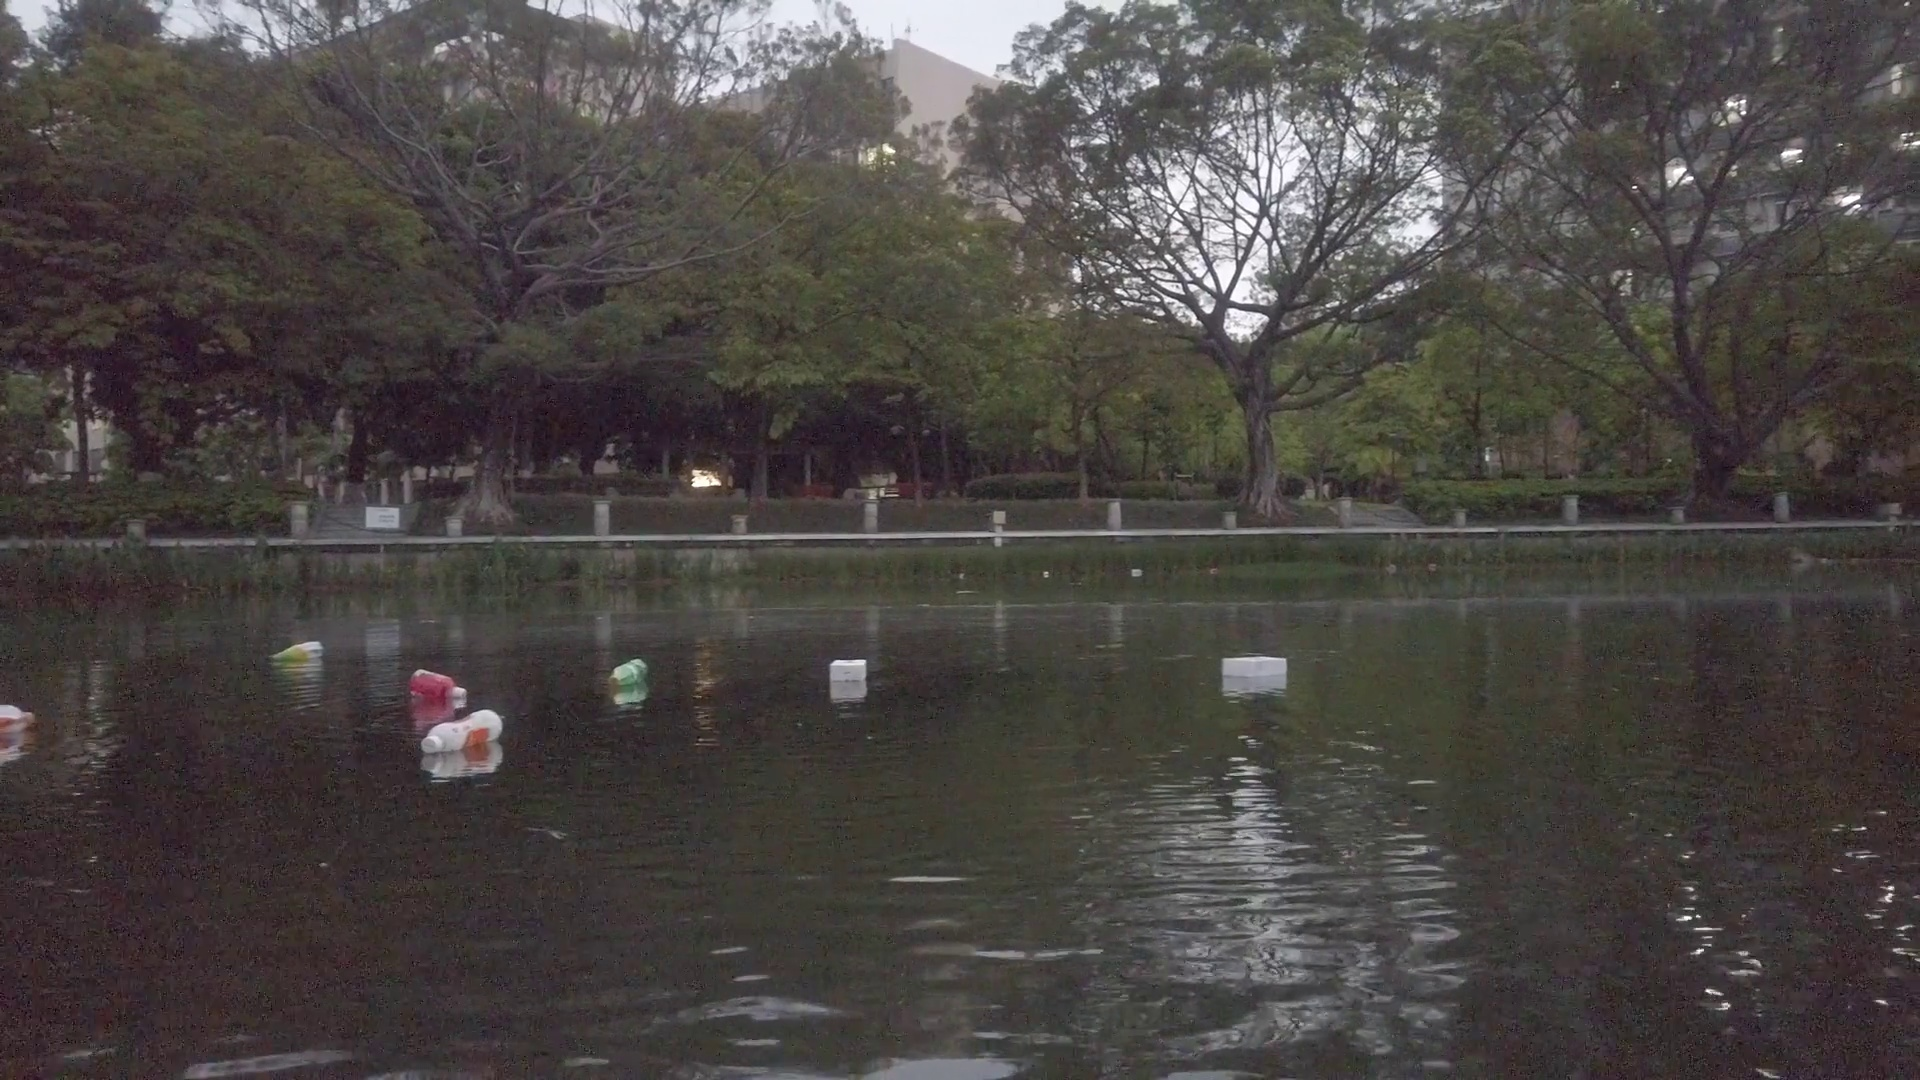bottle: (419, 711, 502, 758), (407, 669, 465, 699), (268, 640, 327, 661), (607, 659, 647, 688)
carton: (1221, 653, 1288, 676), (829, 659, 868, 680), (1131, 567, 1143, 576)
